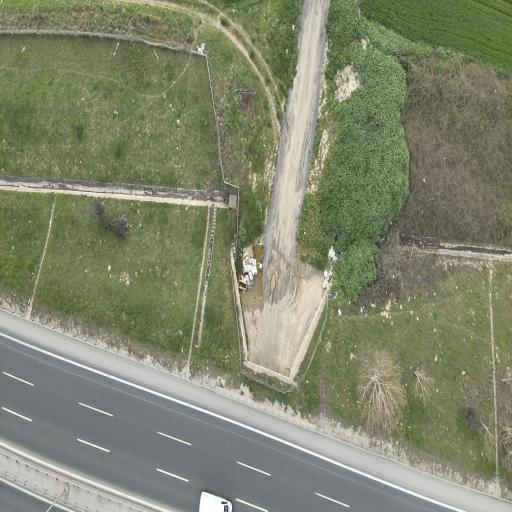car: (200, 491, 232, 511)
